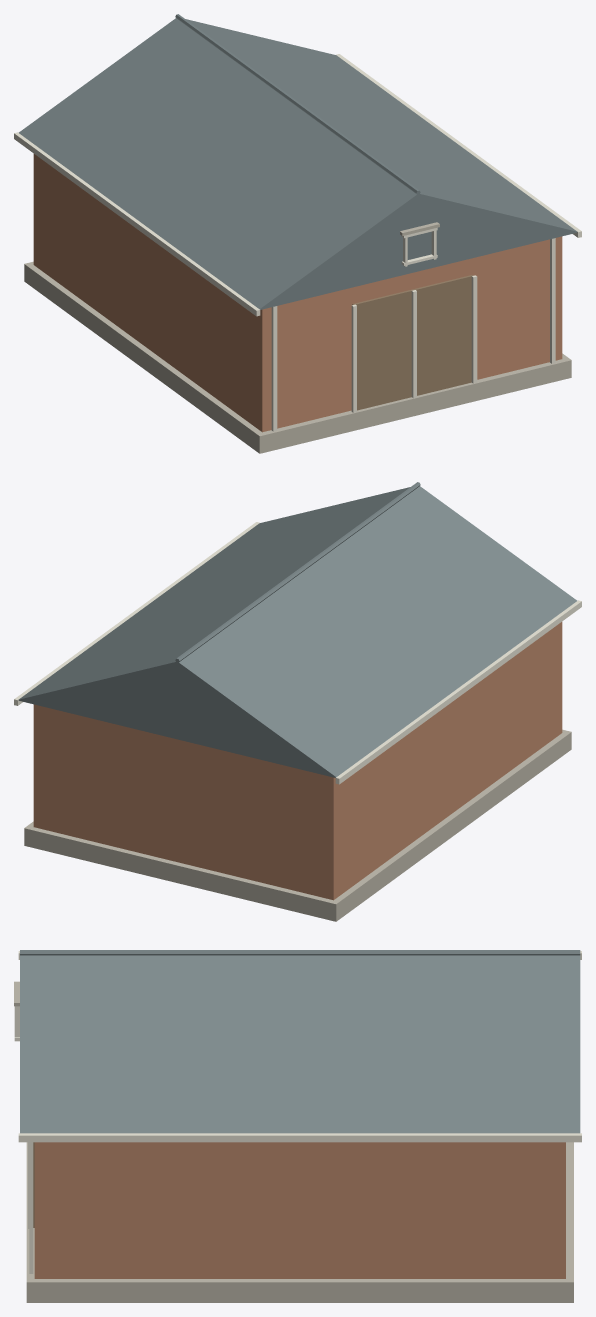
3 views of the same model, one above another, from view 1: azimuth 30°, elevation 25°; view 2: azimuth 150°, elevation 25°; view 3: azimuth 270°, elevation 25° (orthographic). The views are drawn at different scales.
Size of the model in its own units: 13.56 by 9.04 by 17.64.
